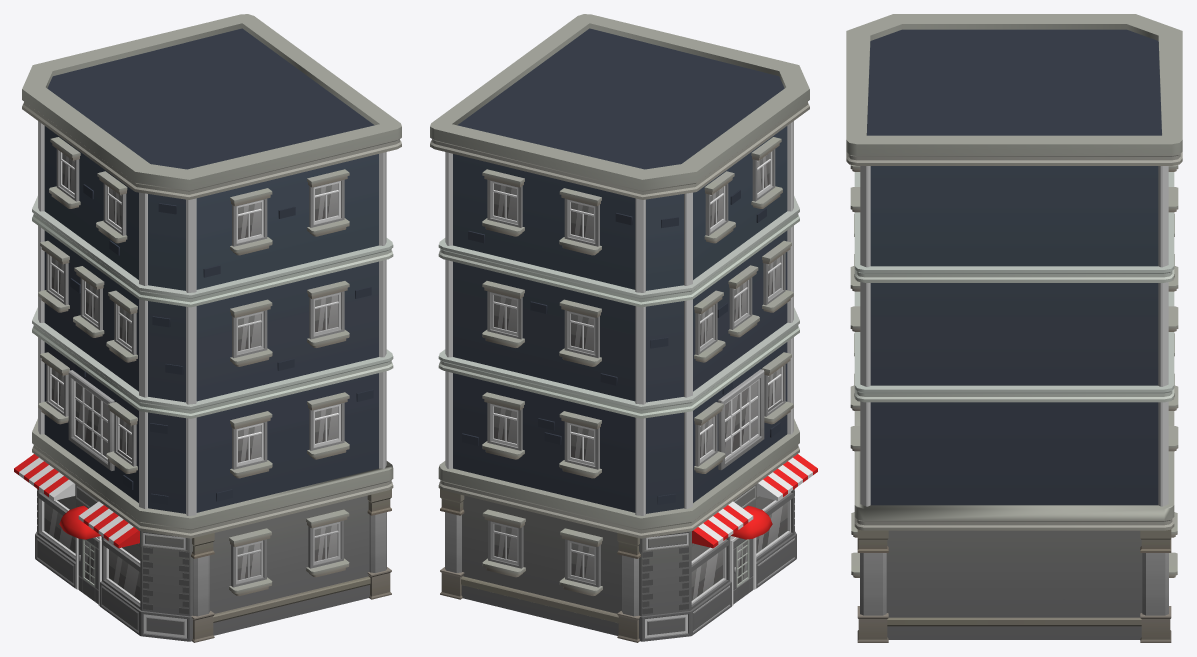
File: Building_3_3_K.fbx
3 views of the same model, side by side, from view 1: azimuth 30°, elevation 25°; view 2: azimuth 150°, elevation 25°; view 3: azimuth 270°, elevation 25° (orthographic). The views are drawn at different scales.
Parts seen in each view (by area): view 1: Building 3_3_K; view 2: Building 3_3_K; view 3: Building 3_3_K.
Boxes of the visible parts, x1=… form: Building 3_3_K: x1=14, y1=14, x2=401, y2=642; Building 3_3_K: x1=430, y1=14, x2=817, y2=642; Building 3_3_K: x1=846, y1=14, x2=1182, y2=642.
Bounding box in the file's own units: 808 × 1383 × 837.
